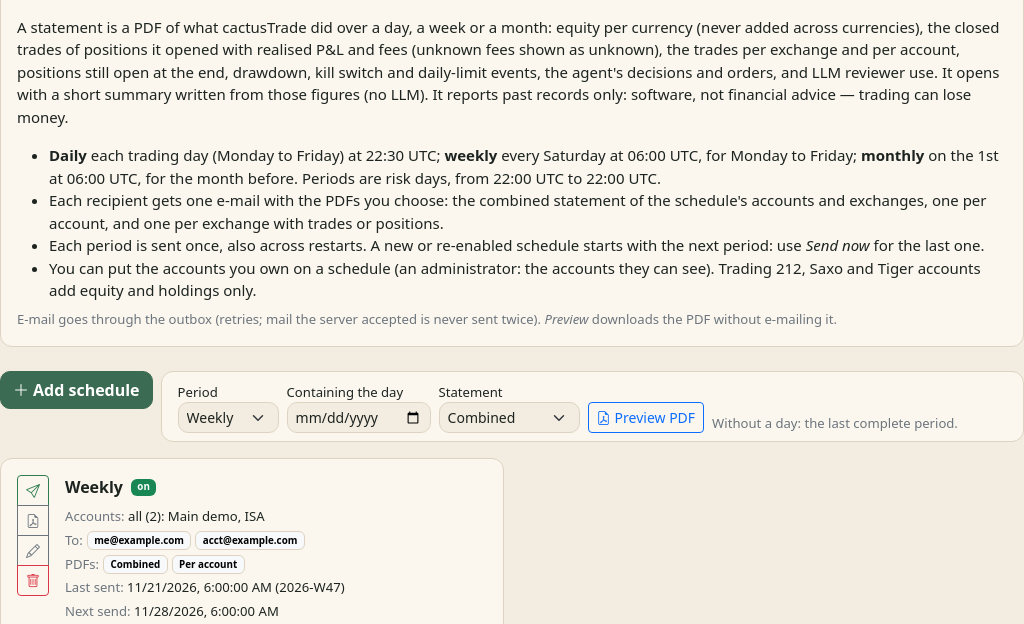
Test: TradingStatements › sends now, edits and deletes after confirming
Click the button named "Send now:": x=33, y=491 left=17, top=475, right=49, bottom=506
(page scrolled)
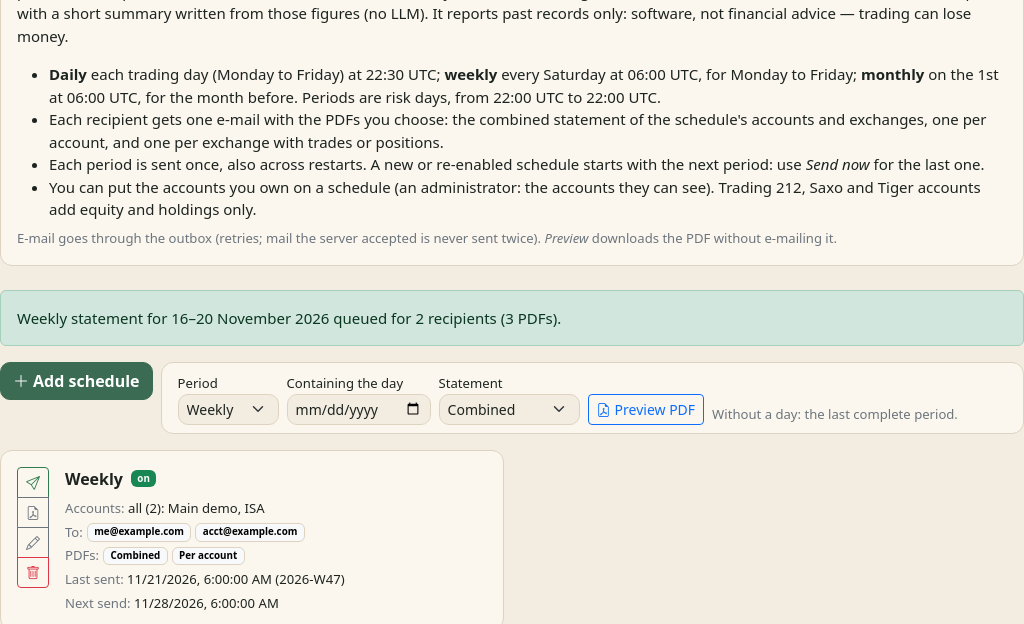
expect the text "Weekly statement for 16–20 November 2026 queued for 2 recipients (3 PDFs)." is shown: met, box left=0, top=290, right=1023, bottom=346
Click the button named "Edit:": x=33, y=542 left=17, top=527, right=49, bottom=558
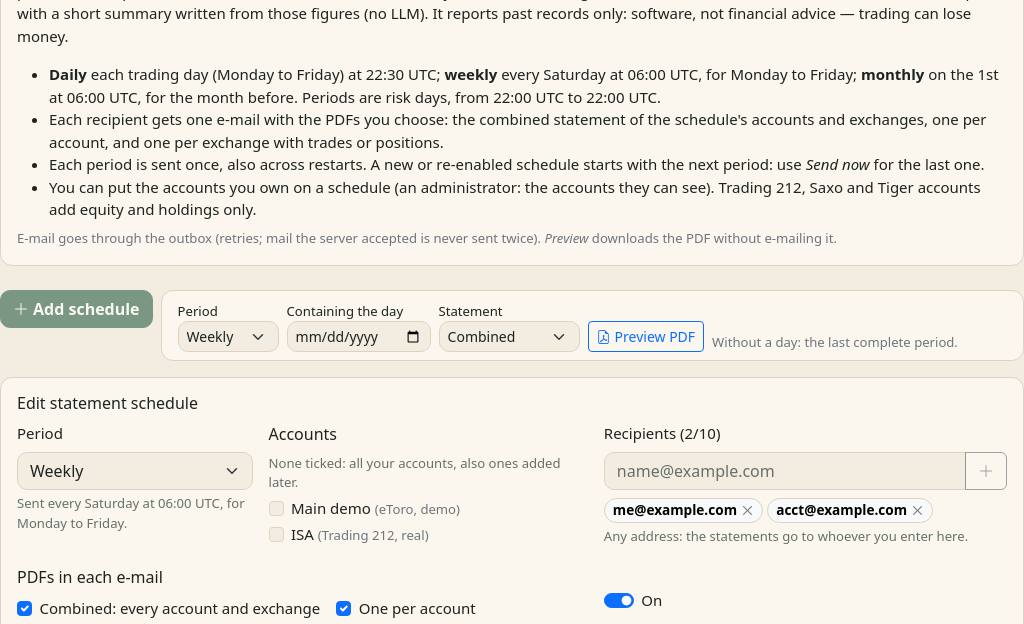
expect the text "me@example.com" is shown: met, box left=604, top=498, right=763, bottom=523
Click the switch labelled "On": x=619, y=600 left=604, top=593, right=634, bottom=608
(page scrolled)
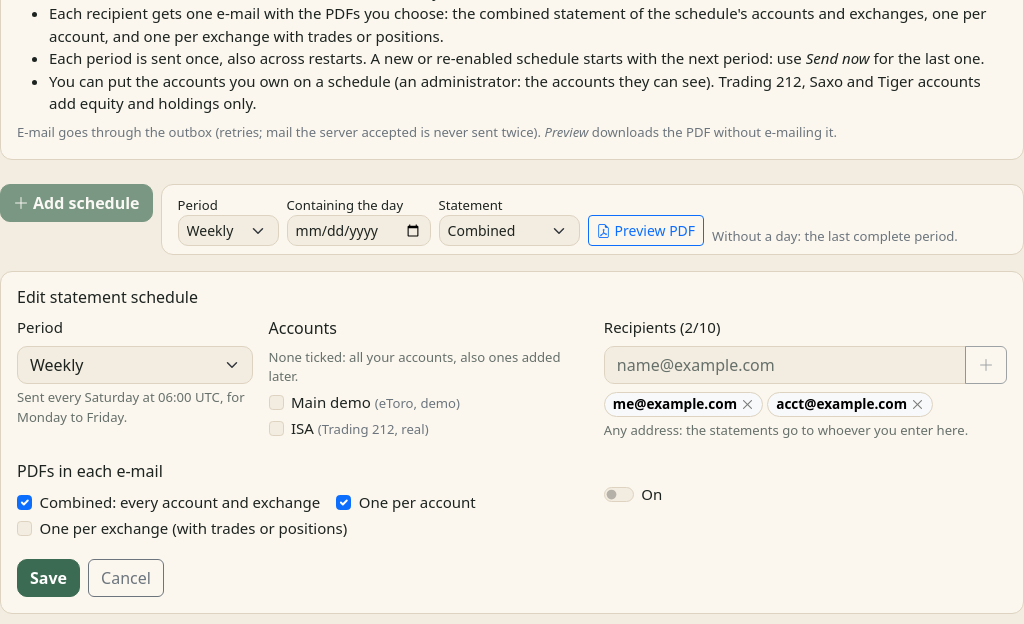
Click the button "Save": x=48, y=578 left=17, top=559, right=80, bottom=597
(page scrolled)
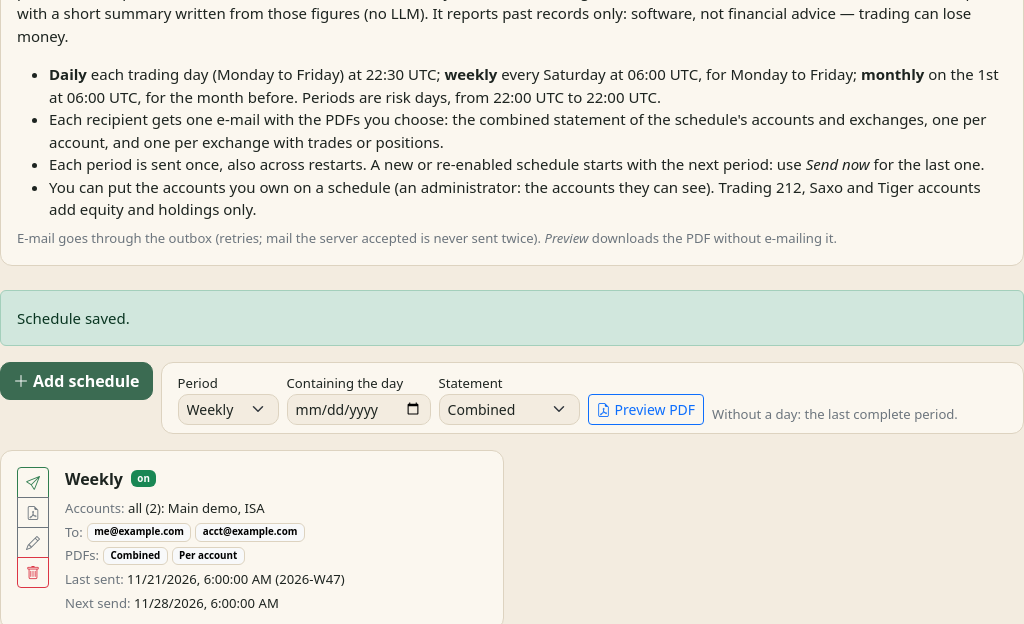
Click the button named "Delete:": x=33, y=572 left=17, top=557, right=49, bottom=588
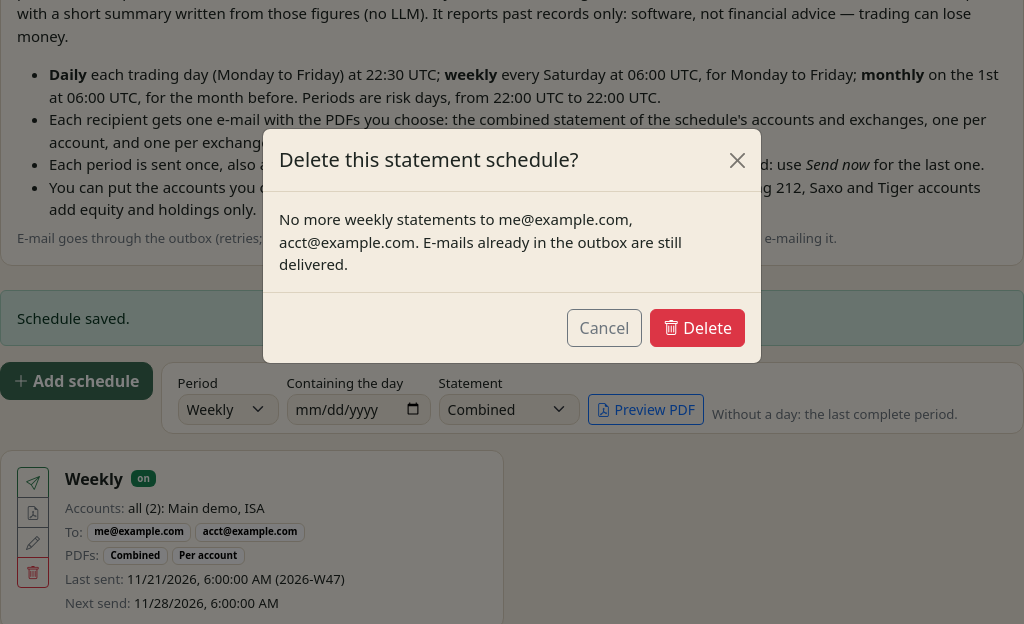
expect the dialog shows "E-mails already in the outbox are still delivered.": met, box left=279, top=232, right=682, bottom=274
Click the button "Delete": x=698, y=328 left=650, top=309, right=745, bottom=347
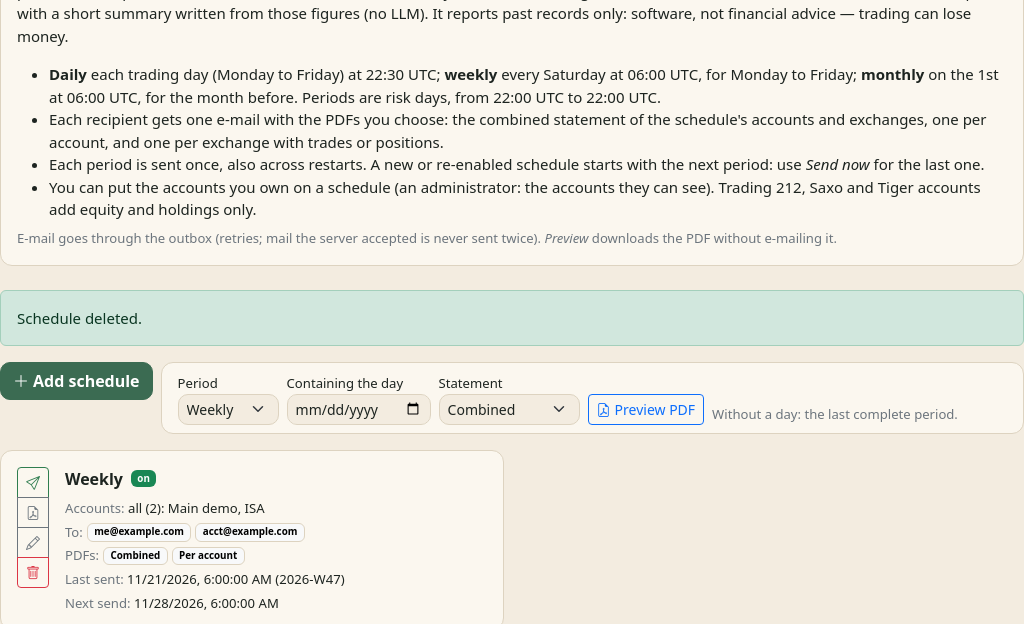
expect the text "Schedule deleted." is shown: met, box left=0, top=290, right=1023, bottom=346
